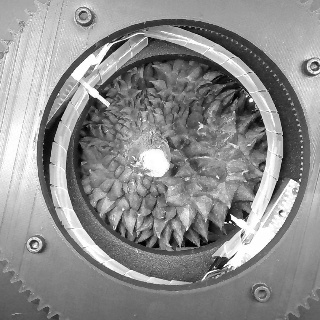base: (126, 128, 169, 178)
end: (138, 148, 171, 178)
